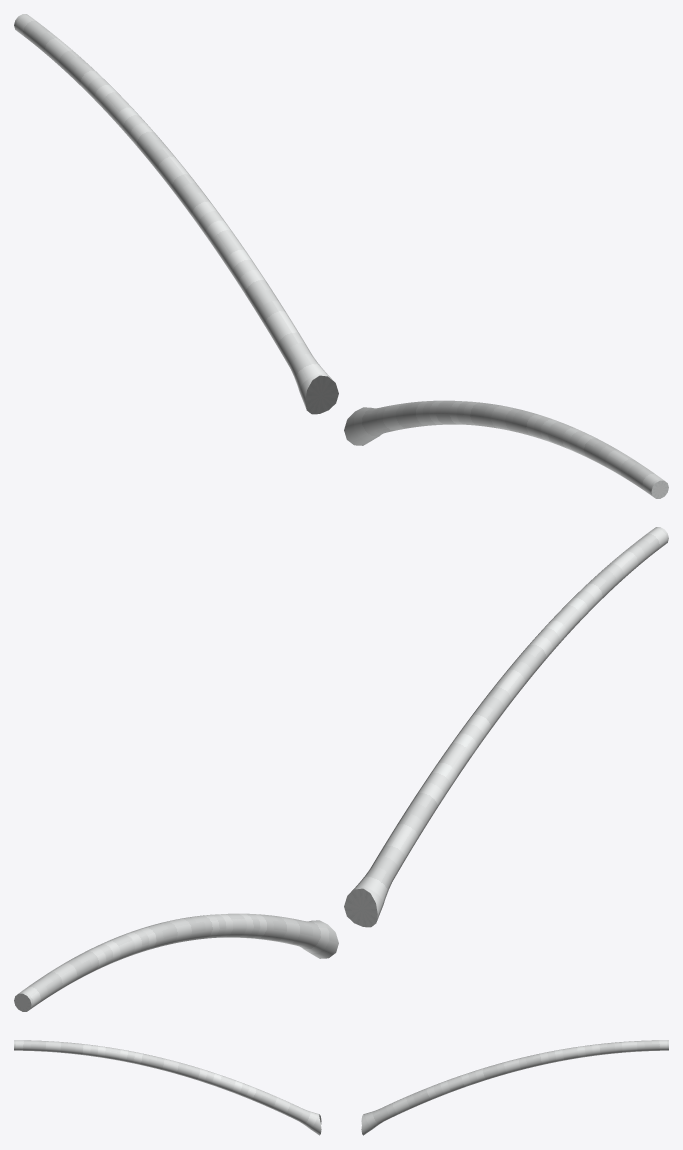
The model's file is luminairearm_caltrans12ftdouble_inv.obj.
3 views of the same model, one above another, from view 1: azimuth 30°, elevation 25°; view 2: azimuth 150°, elevation 25°; view 3: azimuth 270°, elevation 25° (orthographic). The views are drawn at different scales.
Parts seen in each view (by area): view 1: luminairearm_caltrans12ftdouble_inv; view 2: luminairearm_caltrans12ftdouble_inv; view 3: luminairearm_caltrans12ftdouble_inv.
Part boxes in pixels (box(x1,y1,x2,y2)): luminairearm_caltrans12ftdouble_inv: box(14, 14, 668, 498); luminairearm_caltrans12ftdouble_inv: box(14, 527, 668, 1011); luminairearm_caltrans12ftdouble_inv: box(14, 1040, 668, 1135).
Bounding box in the file's own units: 0.0307 × 0.1581 × 1.
